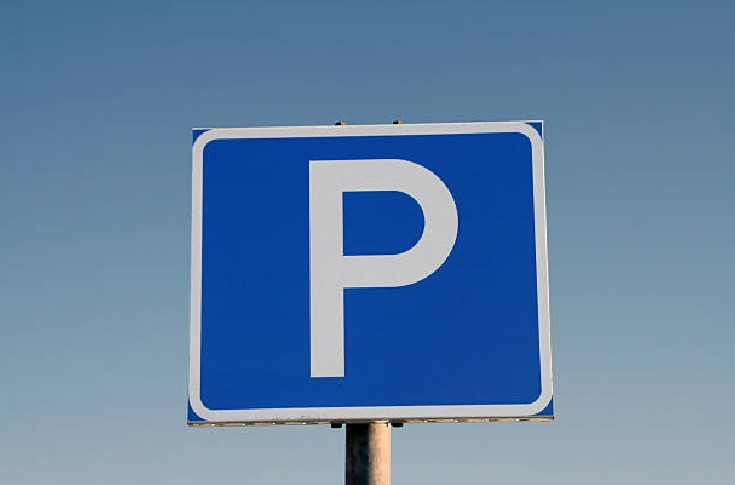Parking: (180, 113, 551, 484)
